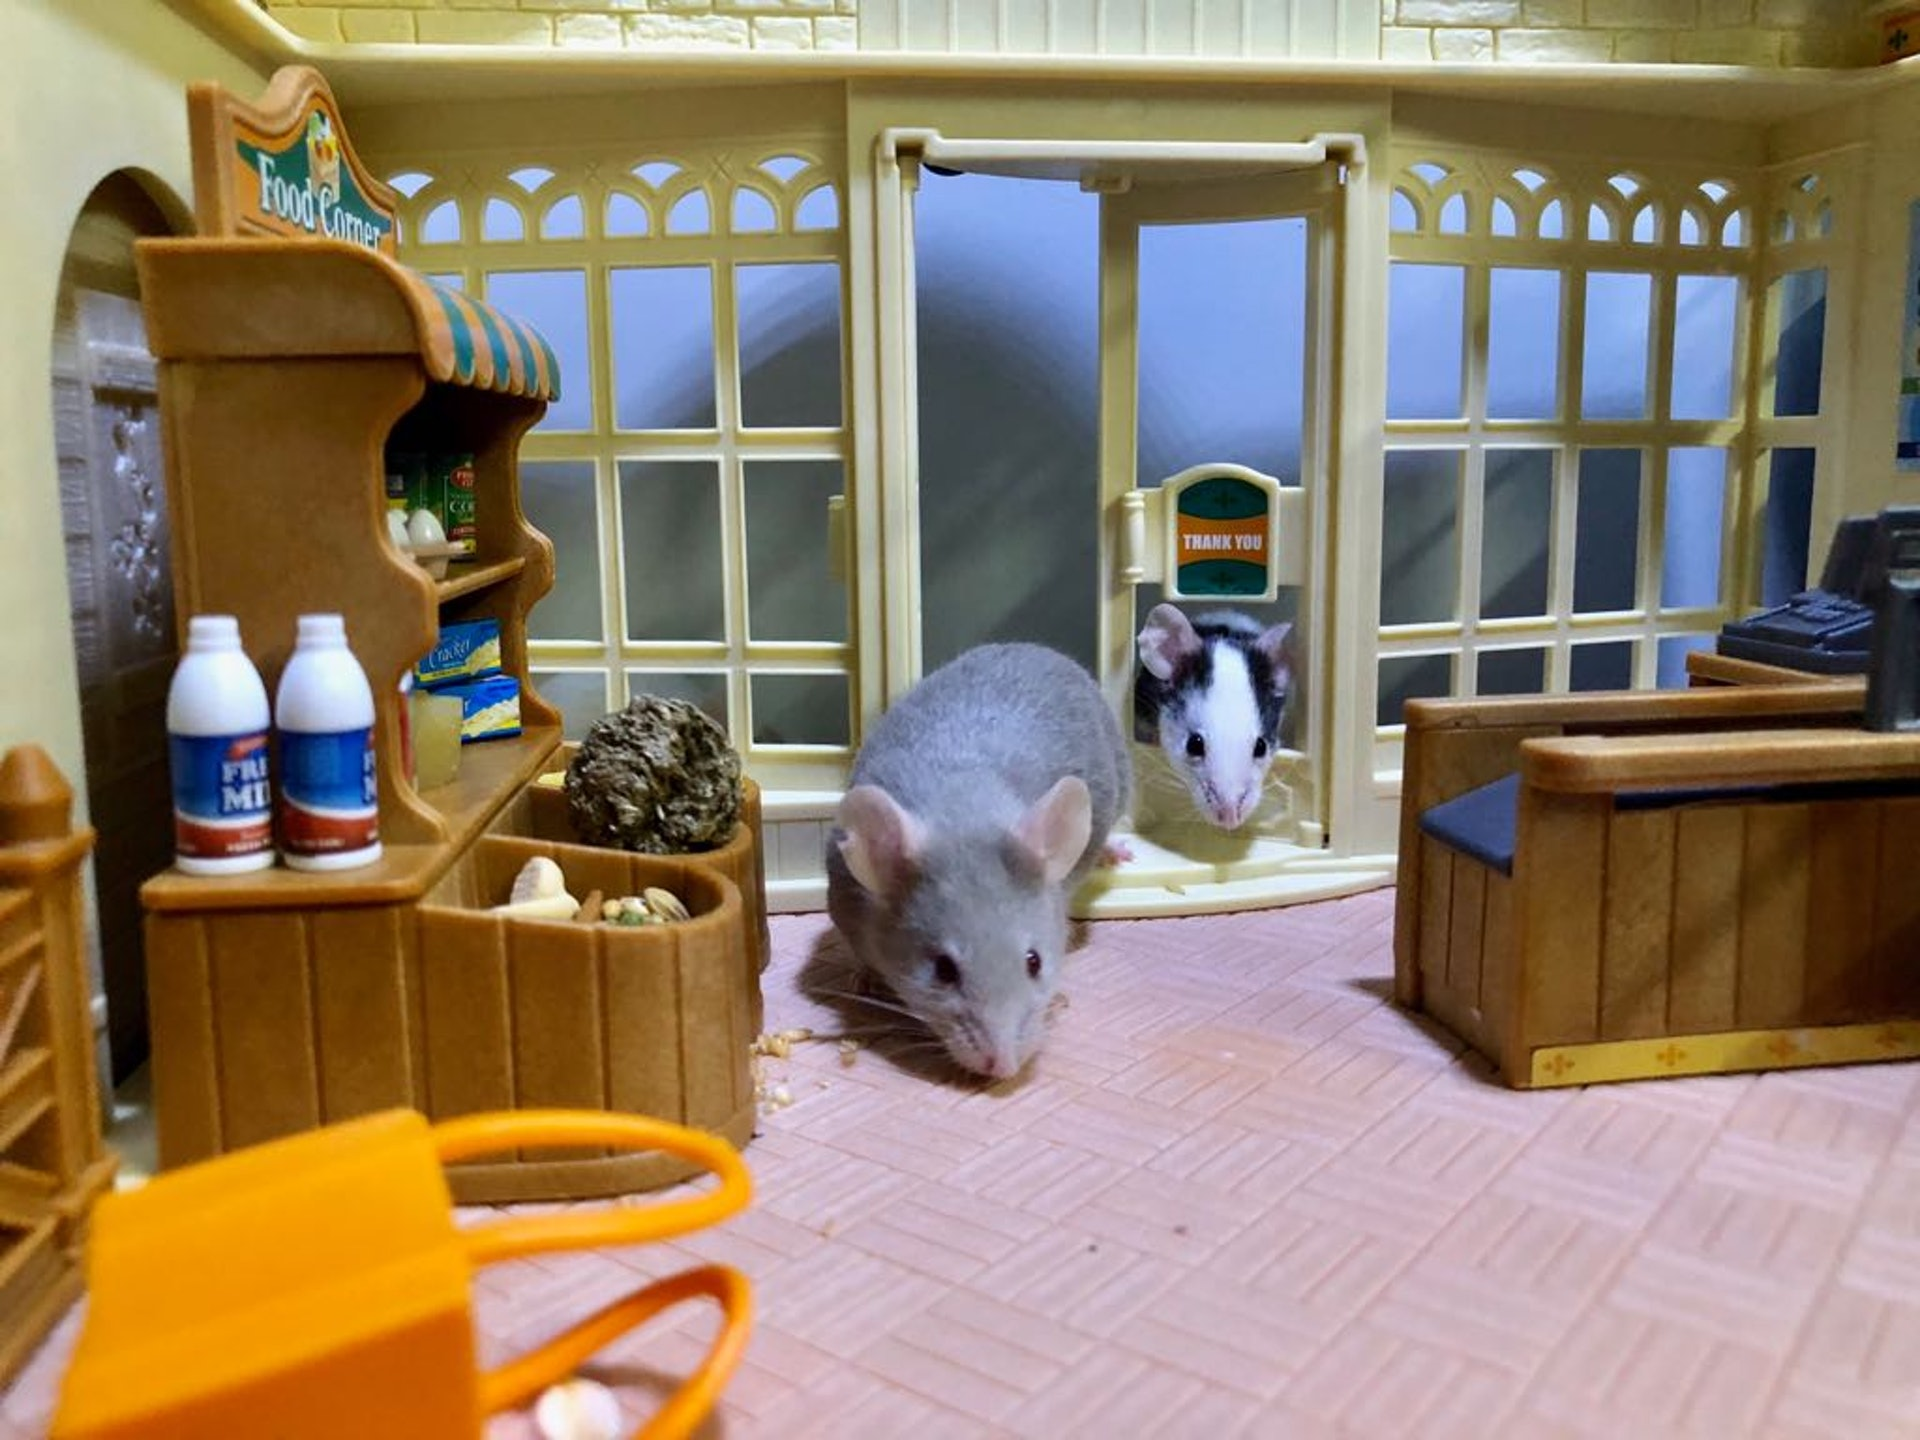mouse: (763, 604, 1126, 1128), (1132, 566, 1290, 852)
